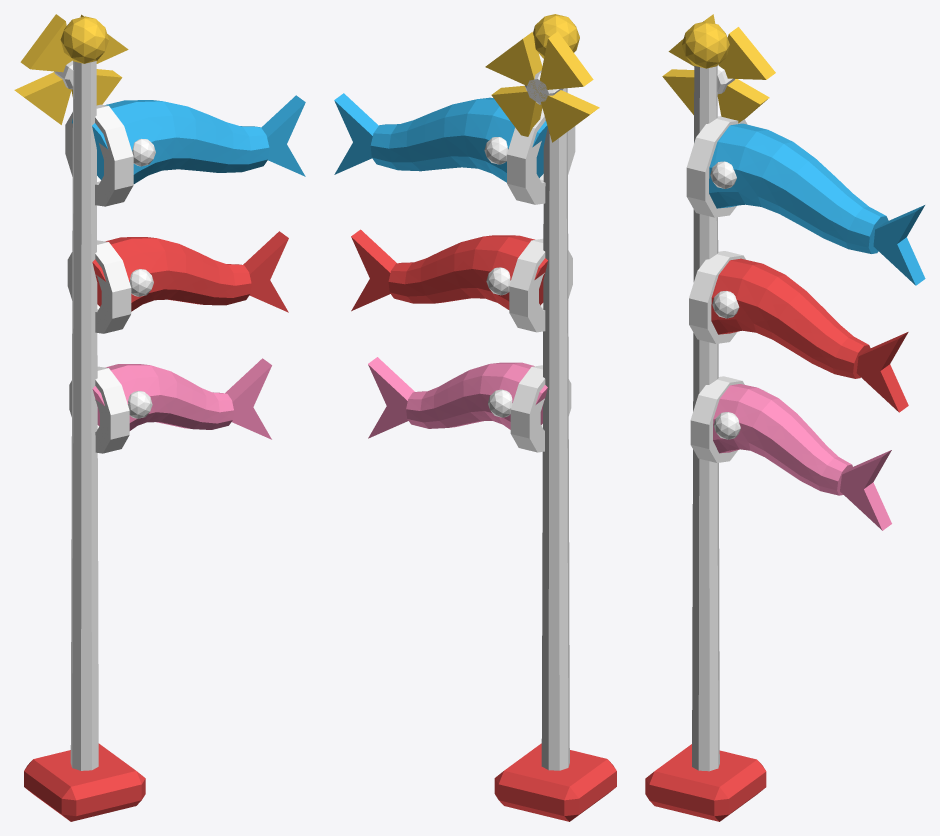
File: Prop_shared_KoiFlagPole.glb
The picture shows the model from 3 angles, left to right: view 1: azimuth 30°, elevation 25°; view 2: azimuth 150°, elevation 25°; view 3: azimuth 330°, elevation 25°; orthographic projection.
Parts seen in each view (by area): view 1: White_FFFFFF, Red_F04848, Blue_38BDF8, Pink_FF8FC0, Yellow_FFD23F; view 2: White_FFFFFF, Red_F04848, Blue_38BDF8, Yellow_FFD23F, Pink_FF8FC0; view 3: White_FFFFFF, Red_F04848, Blue_38BDF8, Pink_FF8FC0, Yellow_FFD23F.
Boxes of the visible parts, box(x1,y1,x2,y2) form: White_FFFFFF: box(54, 60, 155, 770); Red_F04848: box(24, 231, 288, 821); Blue_38BDF8: box(72, 95, 305, 183); Pink_FF8FC0: box(92, 358, 271, 439); Yellow_FFD23F: box(14, 14, 128, 124); White_FFFFFF: box(484, 70, 575, 770); Red_F04848: box(351, 229, 616, 821); Blue_38BDF8: box(334, 93, 547, 182); Yellow_FFD23F: box(485, 14, 599, 142); Pink_FF8FC0: box(368, 357, 547, 438); White_FFFFFF: box(686, 64, 767, 771); Red_F04848: box(645, 258, 908, 821); Blue_38BDF8: box(709, 123, 925, 285); Pink_FF8FC0: box(713, 384, 891, 530); Yellow_FFD23F: box(662, 14, 775, 123).
Size of the model in its own units: 6.4 by 17.8 by 2.16.
